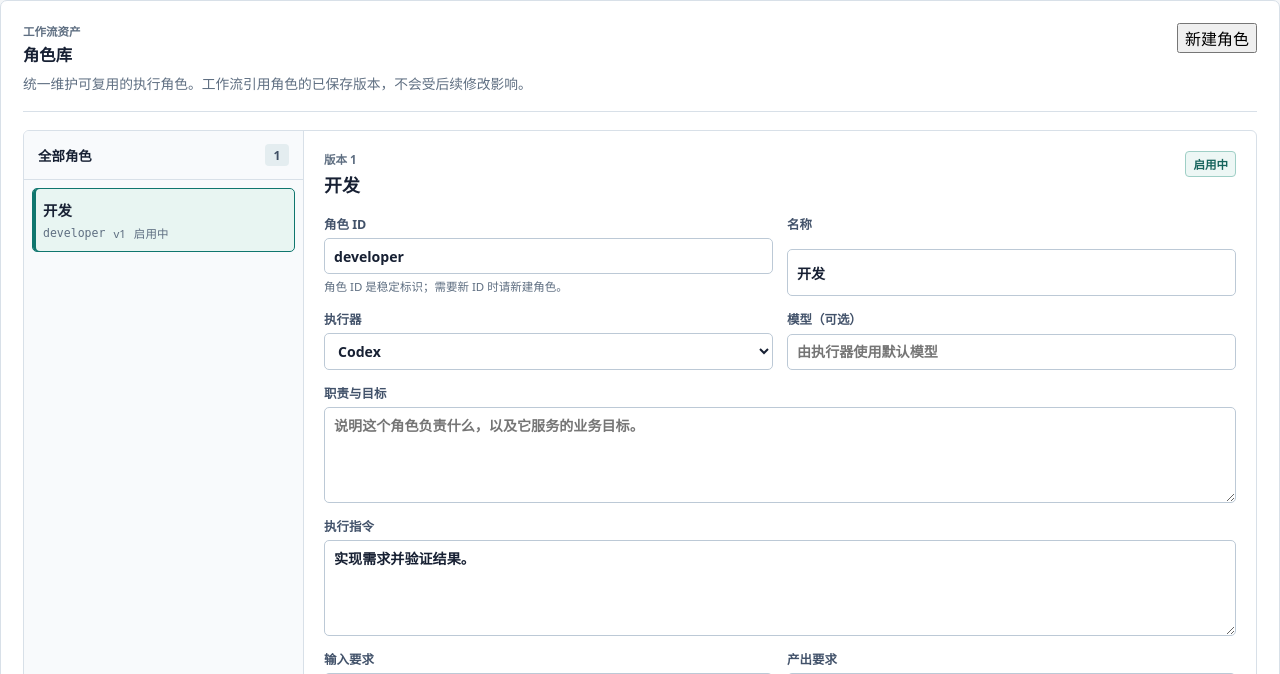
Test case: RoleAssetsPage › keeps a blank editable draft when creating a role repeatedly
The image size is (1280, 674).
Click the button "新建角色" at (1217, 38), box [1177,23,1257,53]
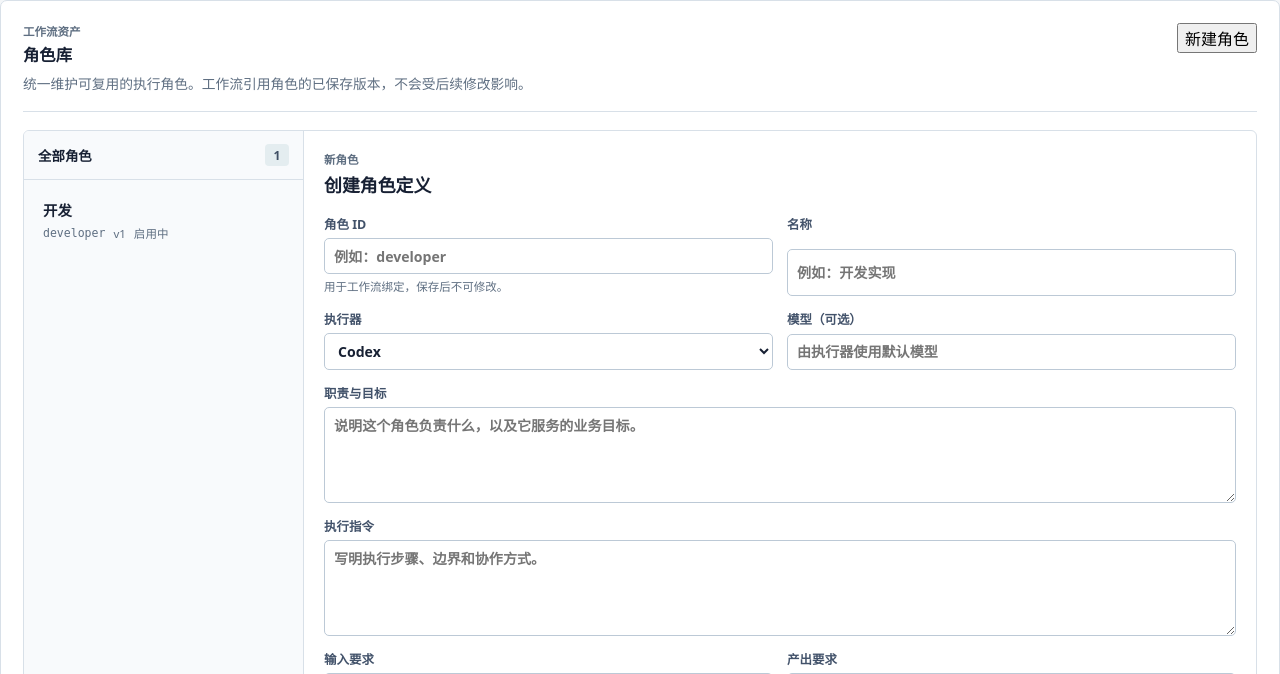
Expected: the field labelled "角色 ID" is empty
Expected: the field labelled "角色 ID" is enabled
Type "reviewer" into the field labelled "角色 ID" at (548, 256), box [324,238,773,274]
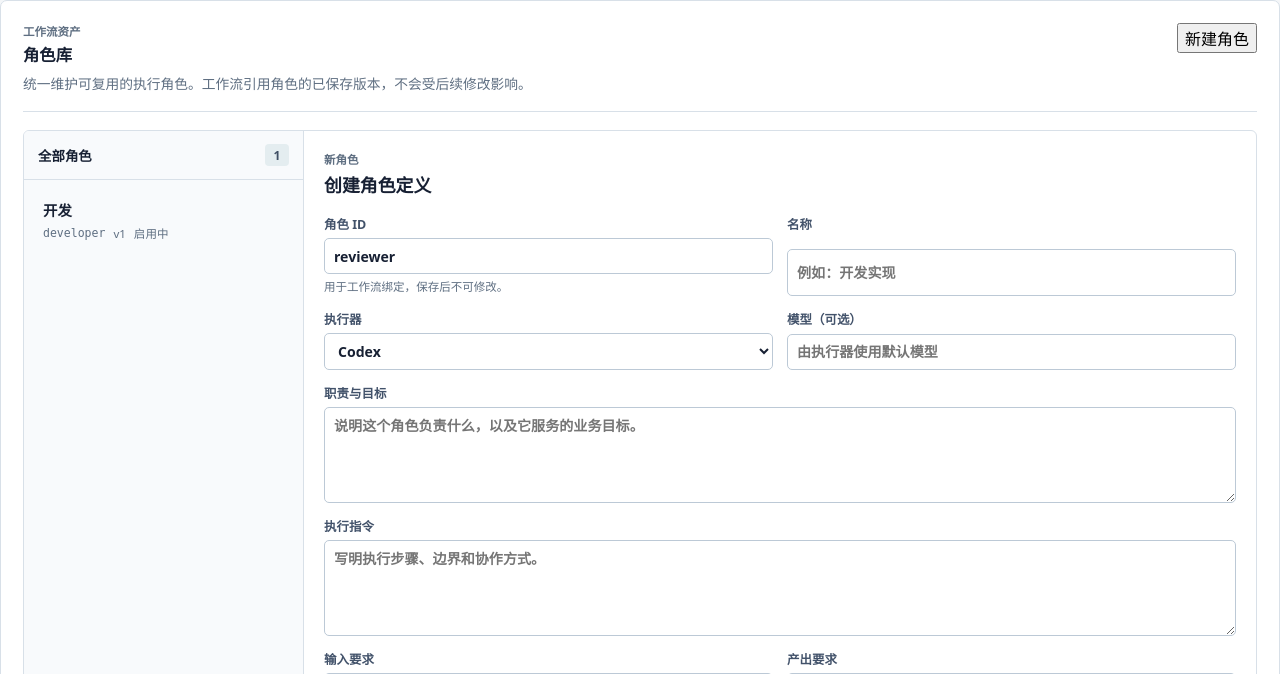
Click the button "新建角色" at (1217, 38), box [1177,23,1257,53]
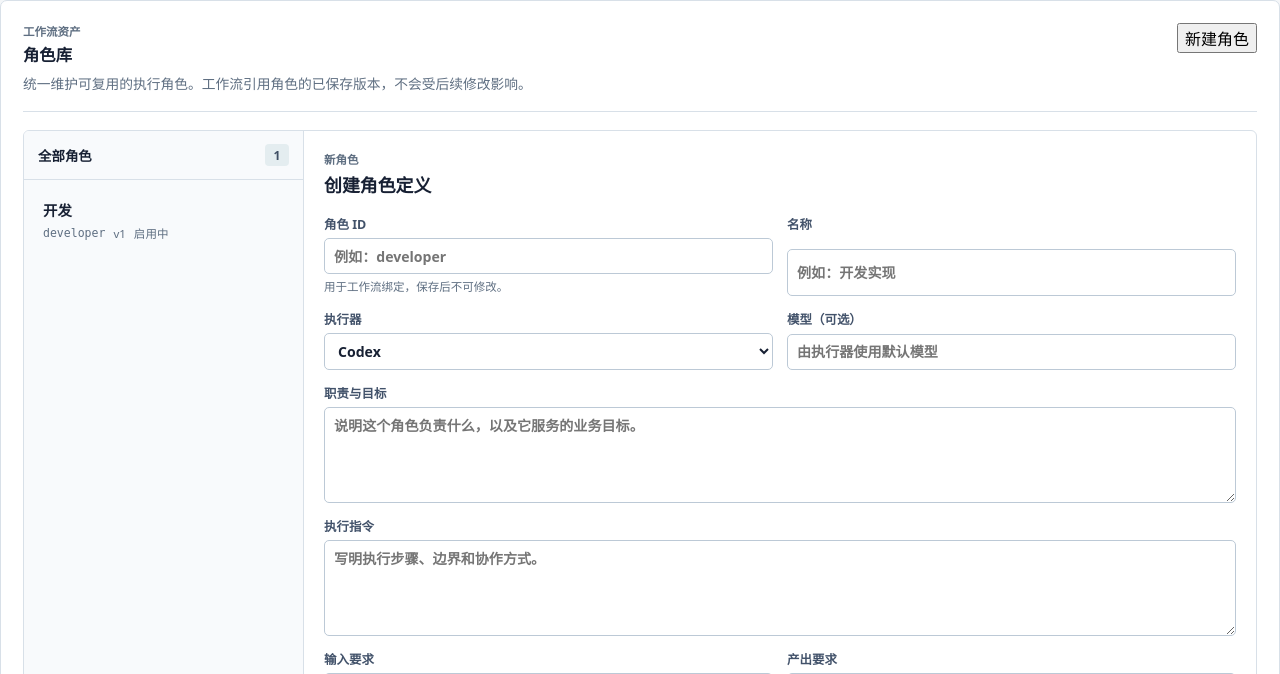
Expected: the field labelled "角色 ID" is enabled, [324,238,773,274]
Expected: the field labelled "角色 ID" is empty, [324,238,773,274]
